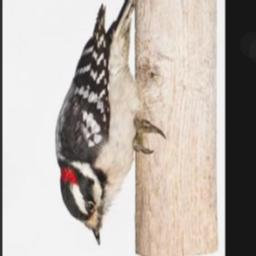Woodpecker: (54, 4, 165, 247)
